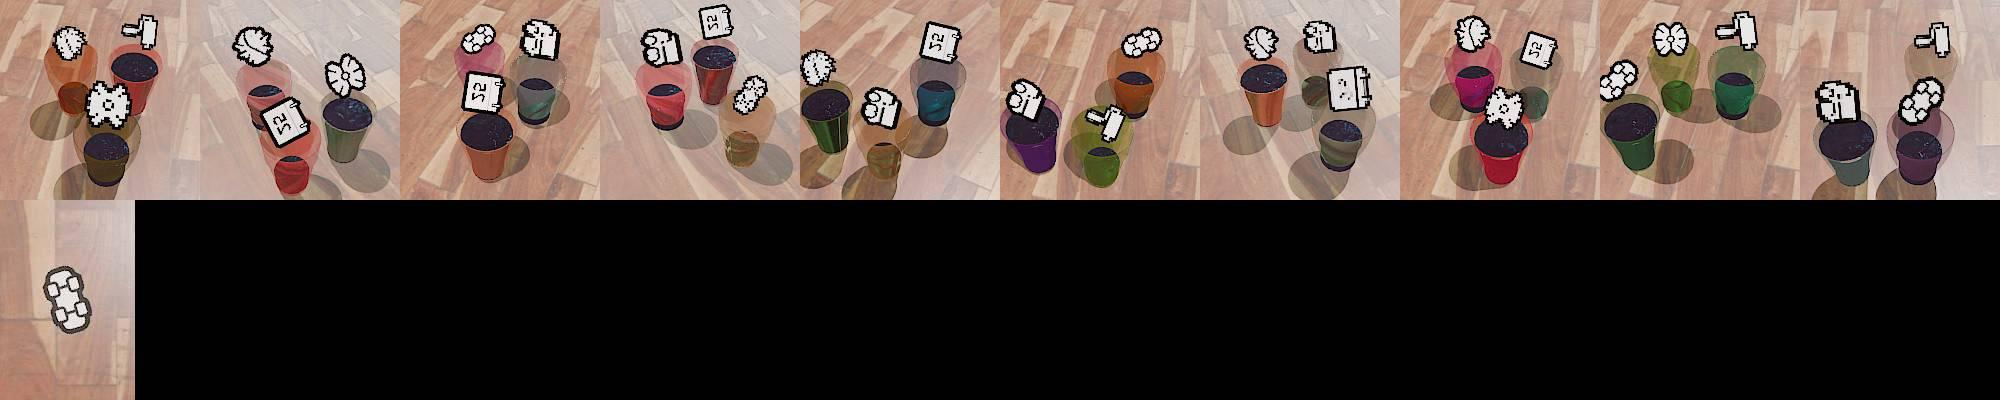icon: (42, 264, 93, 334), (259, 96, 312, 148), (84, 79, 133, 130), (1897, 76, 1944, 125), (1327, 64, 1372, 112), (460, 69, 506, 115), (1814, 79, 1860, 125), (917, 20, 962, 65), (324, 52, 367, 97), (1483, 85, 1526, 130), (519, 19, 561, 64), (1714, 10, 1759, 51), (1083, 102, 1128, 143), (640, 27, 684, 68), (1597, 60, 1638, 102), (232, 25, 273, 66), (1006, 76, 1045, 120), (1519, 29, 1559, 70), (864, 88, 901, 127), (732, 74, 767, 116), (1652, 20, 1690, 57), (120, 14, 158, 51), (1916, 20, 1953, 59), (1121, 27, 1162, 60), (698, 4, 733, 41), (1454, 15, 1490, 52), (51, 27, 88, 62), (1242, 25, 1278, 61), (1302, 19, 1338, 55), (801, 50, 835, 83), (462, 23, 496, 55)
